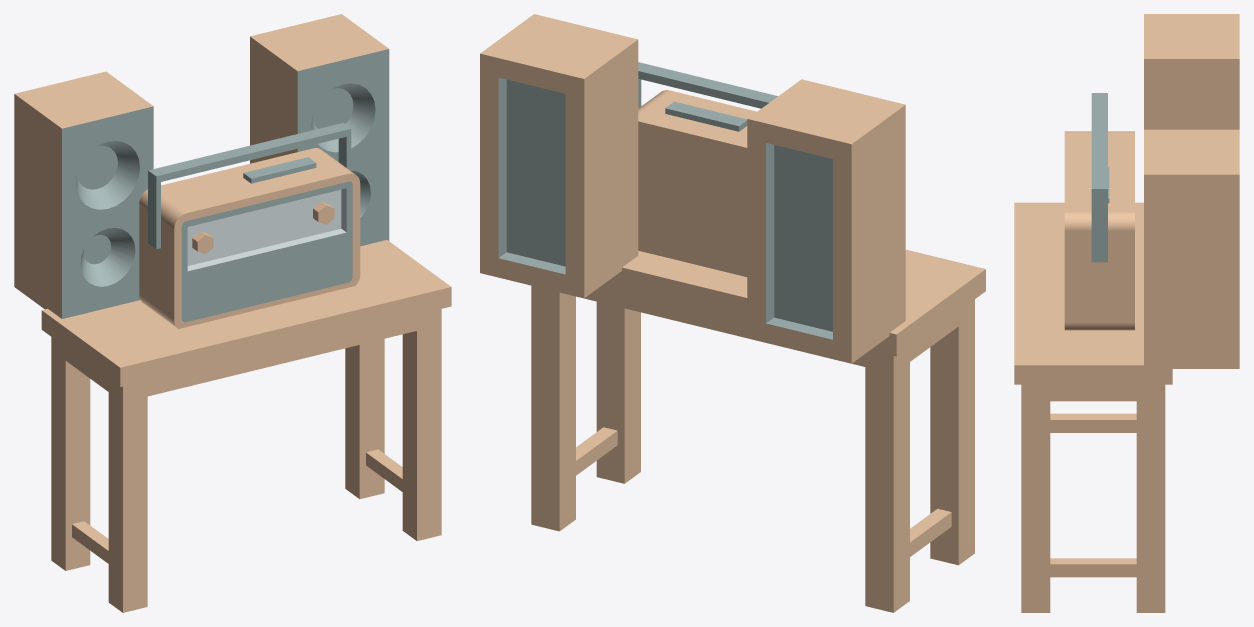
File: stereo.glb
3 renders of one model, left to right at view 1: azimuth 30°, elevation 25°; view 2: azimuth 150°, elevation 25°; view 3: azimuth 270°, elevation 25°, orthographic. The views are drawn at different scales.
Parts seen in each view (by area): view 1: sideTable(Clone), speakerSmall(Clone) (×2), radio(Clone); view 2: speakerSmall(Clone) (×2), sideTable(Clone), radio(Clone); view 3: speakerSmall(Clone) (×2), sideTable(Clone), radio(Clone).
Part boxes in pixels (<box>): sideTable(Clone): <box>41,240,451,612</box>; speakerSmall(Clone) (×2): <box>14,14,389,318</box>; radio(Clone): <box>139,123,360,328</box>; speakerSmall(Clone) (×2): <box>480,14,905,363</box>; sideTable(Clone): <box>531,249,985,612</box>; radio(Clone): <box>638,62,777,276</box>; speakerSmall(Clone) (×2): <box>1144,14,1239,368</box>; sideTable(Clone): <box>1014,202,1172,612</box>; radio(Clone): <box>1064,93,1134,330</box>.
Size of the model in its own units: 0.98 by 1.23 by 0.5705.
